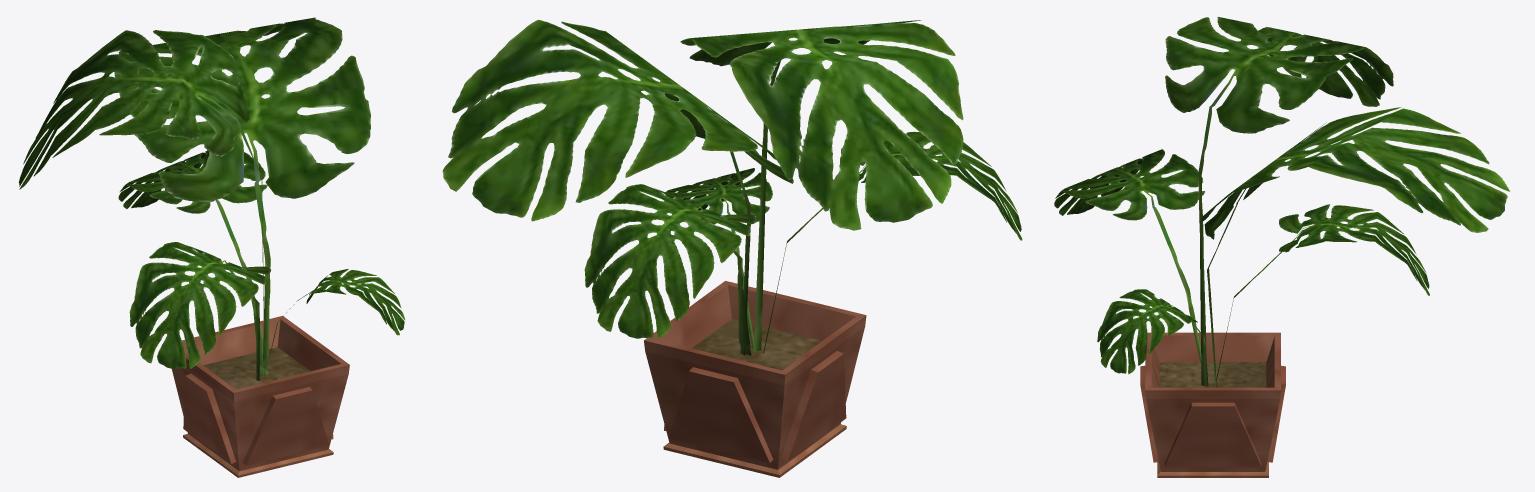
Rendered from Plant_01_Art.glb.
The picture shows the model from 3 angles, left to right: view 1: azimuth 30°, elevation 25°; view 2: azimuth 150°, elevation 25°; view 3: azimuth 270°, elevation 25°; orthographic projection. The views are drawn at different scales.
Parts seen in each view (by area): view 1: Plant_01_Art; view 2: Plant_01_Art; view 3: Plant_01_Art.
Part boxes in pixels (x1=…): Plant_01_Art: x1=18, y1=17, x2=405, y2=477; Plant_01_Art: x1=442, y1=20, x2=1022, y2=477; Plant_01_Art: x1=1054, y1=17, x2=1509, y2=477.
Bounding box in the file's own units: 3.12 × 3.08 × 3.45.
3 materials, 3 textured.
